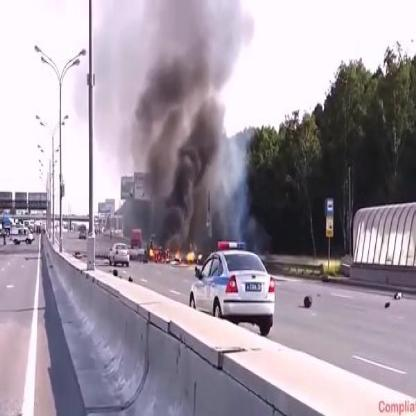fire: (142, 244, 202, 264)
